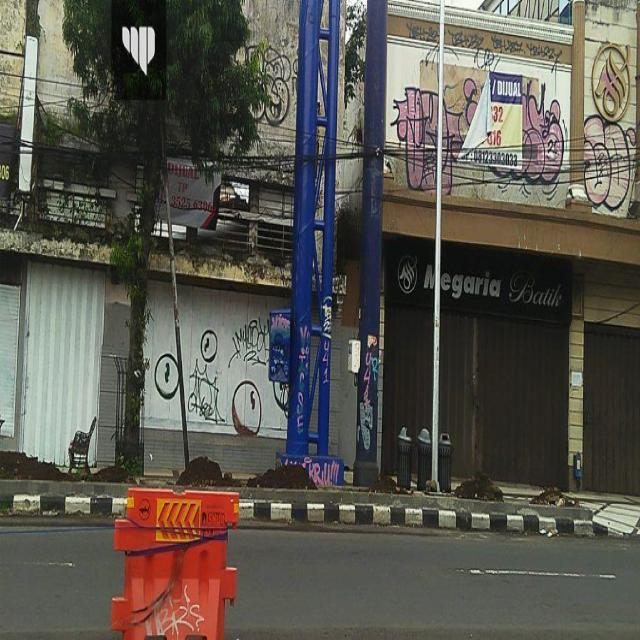nonspitting: (468, 72, 566, 186), (404, 19, 564, 72), (392, 82, 464, 195), (154, 328, 224, 426), (582, 114, 636, 210), (244, 41, 292, 128), (228, 318, 272, 366), (358, 343, 376, 448), (231, 378, 261, 436), (297, 319, 308, 436), (305, 456, 339, 488), (320, 298, 331, 386)
